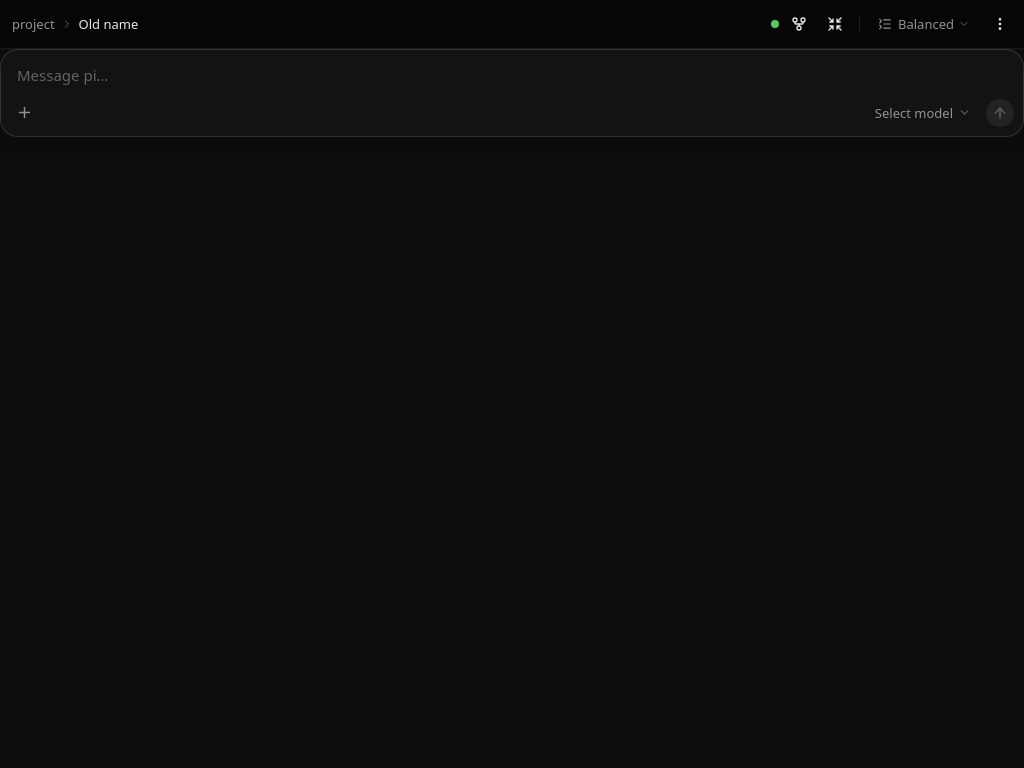
it: ConversationHeader menu › Rename… → set_session_name
Click the button named "More": (1000, 24) [984,8,1016,40]
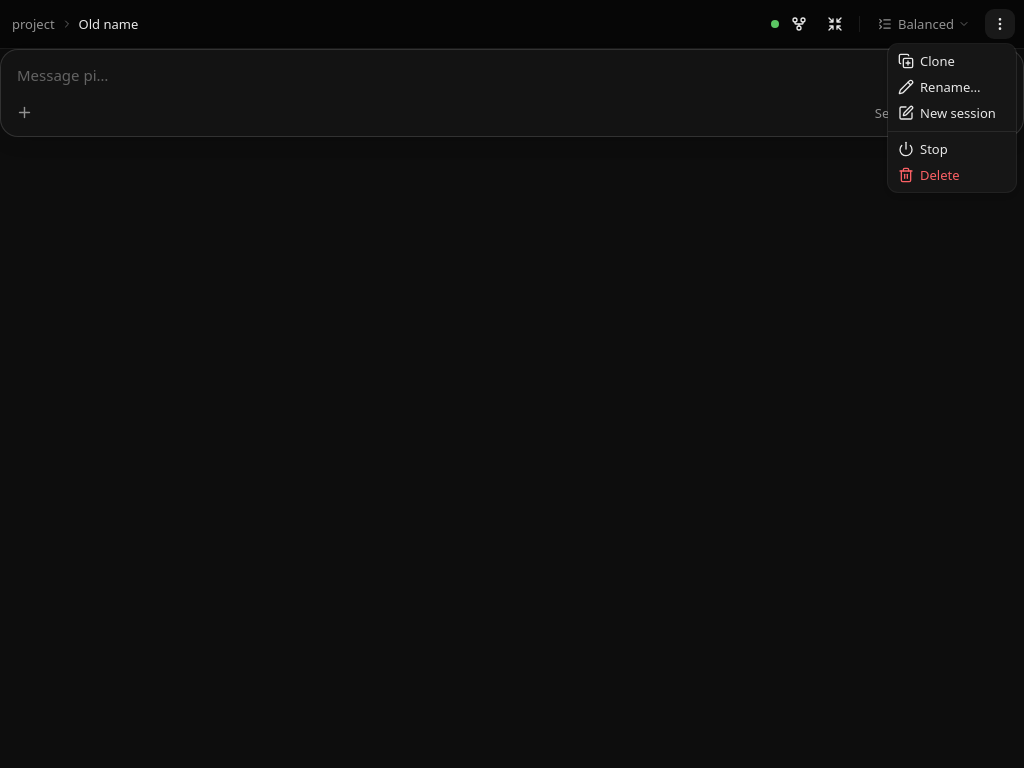
Click the menu item "Rename…": (939, 87) [898,78,980,96]
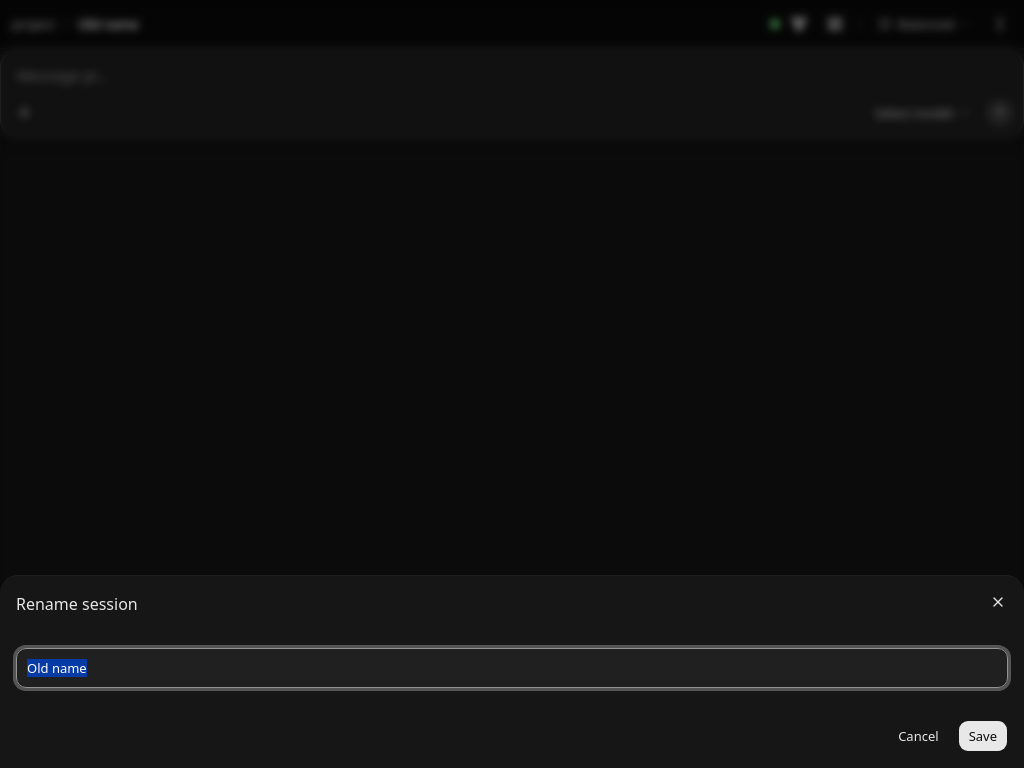
Now the field named "Session name" holds "Old name"
Replace the text in the field named "Session name" with "New name": (512, 668) [16,648,1008,688]
Then press Enter
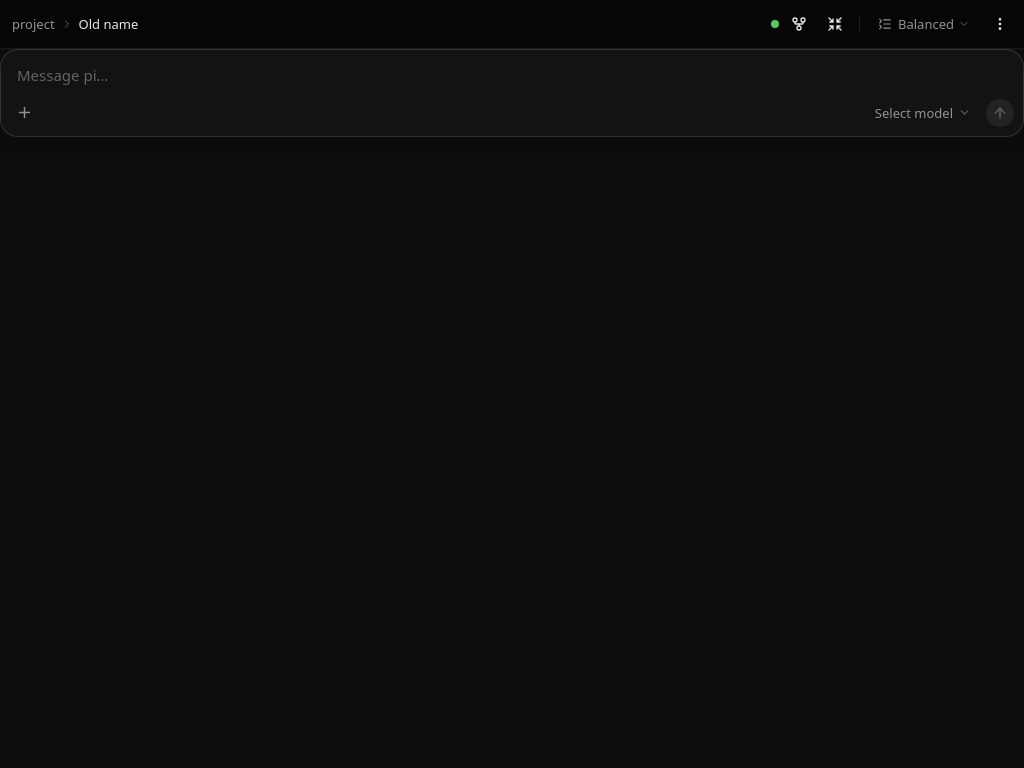
Now the dialog with test id "rename-sheet" is gone
